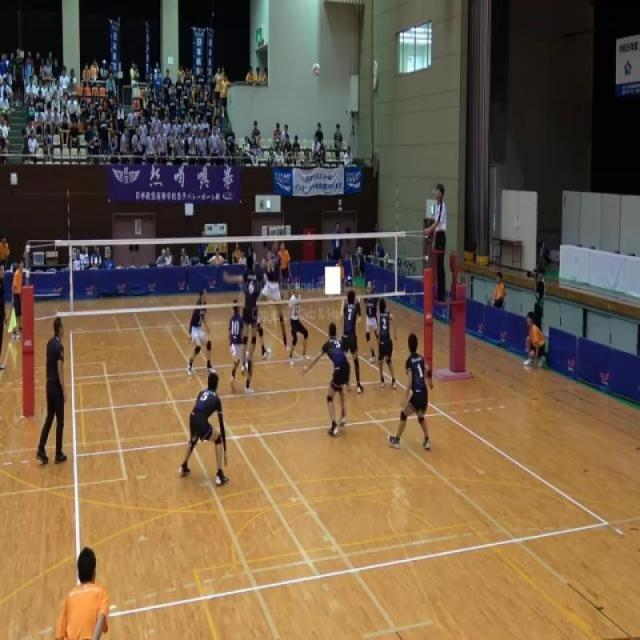volleyball: (312, 62, 321, 78)
